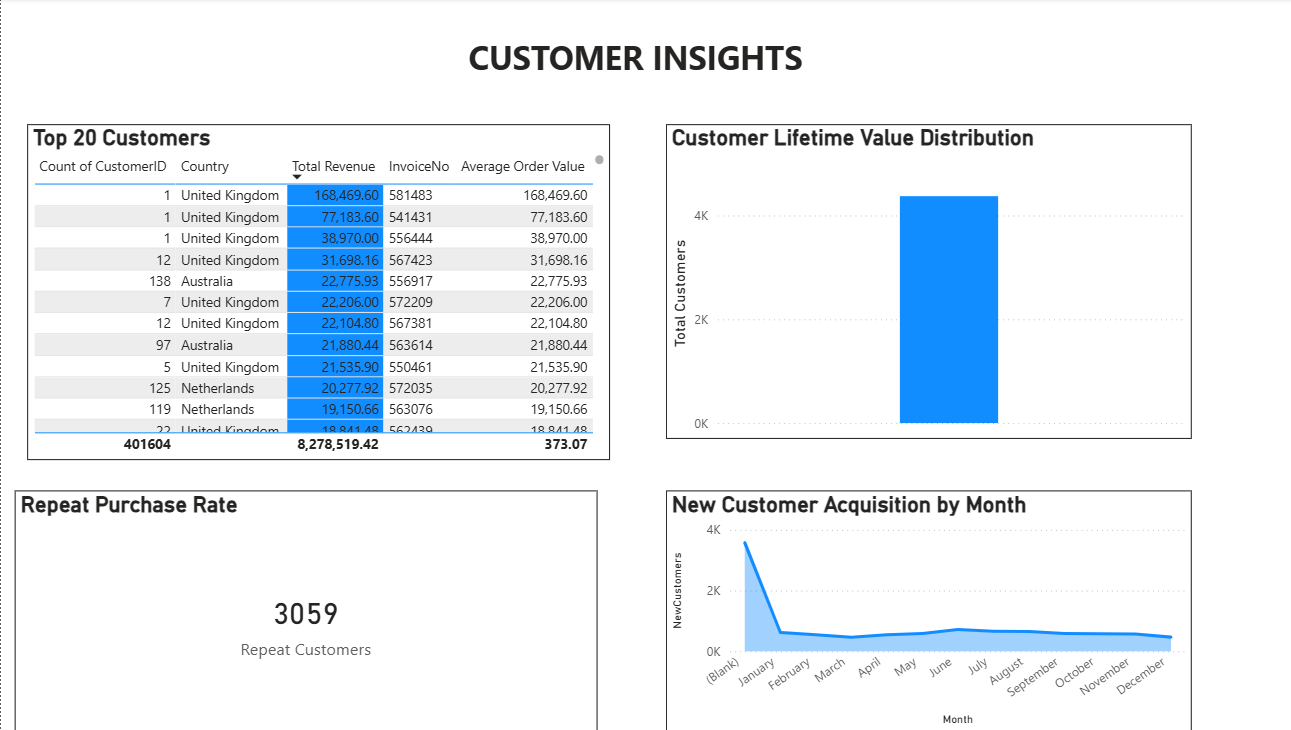

Layout of this report page (visuals, bound fields, positions):
{"tool":"powerbi","page":{"name":"Page 2","canvas":[1280,720],"ordinal":1},"visuals":[{"type":"tableEx","title":"Top 20 Customers ","fields":{"Values":["CountNonNull(sales_data.CustomerID)","sales_data.Country","sales_data.Total Revenue","sales_data.InvoiceNo","sales_data.Average Order Value"]},"box":[26.1,123.5,572.2,329.3],"z":0},{"type":"clusteredColumnChart","title":"Customer Lifetime Value Distribution","fields":{"Y":["sales_data.Total Customers"]},"box":[653.2,123.5,516,308.7],"z":1},{"type":"card","title":"Repeat Purchase Rate","fields":{"Values":["sales_data.Repeat Customers"]},"box":[13.7,483,572.2,237.4],"z":2},{"type":"areaChart","title":"New Customer Acquisition by Month","fields":{"Category":["sales_data.InvoiceDate.Variation.Date Hierarchy.Month"],"Y":["sales_data.NewCustomers"]},"box":[653,483,516,237],"z":3},{"type":"textbox","box":[454.2,31.6,406.2,68.6],"z":4}]}

Visuals, with their boxes in screenshot pixels (x1, y1, x2, y2), scaled from the page's 1280x720 canvas onto the 1291x730 screenshot:
"Top 20 Customers " tableEx: pyautogui.locateOnScreen(26, 125, 603, 459)
"Customer Lifetime Value Distribution" clusteredColumnChart: pyautogui.locateOnScreen(659, 125, 1179, 438)
"Repeat Purchase Rate" card: pyautogui.locateOnScreen(14, 490, 591, 729)
"New Customer Acquisition by Month" areaChart: pyautogui.locateOnScreen(659, 490, 1179, 729)
textbox: pyautogui.locateOnScreen(458, 32, 868, 102)
